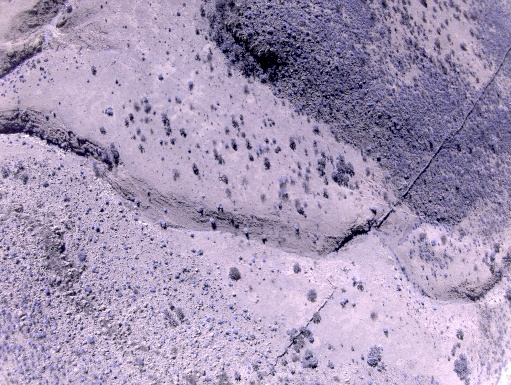agave: (77, 250, 87, 261), (33, 330, 46, 337), (136, 356, 145, 366), (80, 364, 89, 374), (202, 279, 211, 288), (91, 267, 101, 274), (122, 243, 130, 251), (44, 288, 52, 296), (91, 225, 100, 232), (105, 311, 115, 317), (149, 285, 156, 293), (160, 239, 167, 247), (162, 206, 169, 214), (168, 333, 177, 339), (85, 337, 94, 343), (173, 272, 180, 279), (247, 265, 254, 272), (132, 215, 139, 222), (227, 280, 233, 288), (234, 329, 240, 337), (219, 319, 228, 324), (163, 258, 169, 265), (118, 292, 124, 299), (104, 199, 110, 206), (9, 250, 15, 257), (190, 246, 196, 252), (242, 307, 248, 313), (114, 254, 120, 260), (169, 249, 175, 255), (228, 302, 233, 309), (87, 288, 92, 295), (101, 241, 105, 249), (261, 257, 268, 261), (250, 257, 255, 262), (238, 254, 242, 260), (153, 330, 159, 334), (188, 340, 192, 346), (99, 206, 103, 212), (151, 259, 156, 263), (225, 330, 229, 335)
